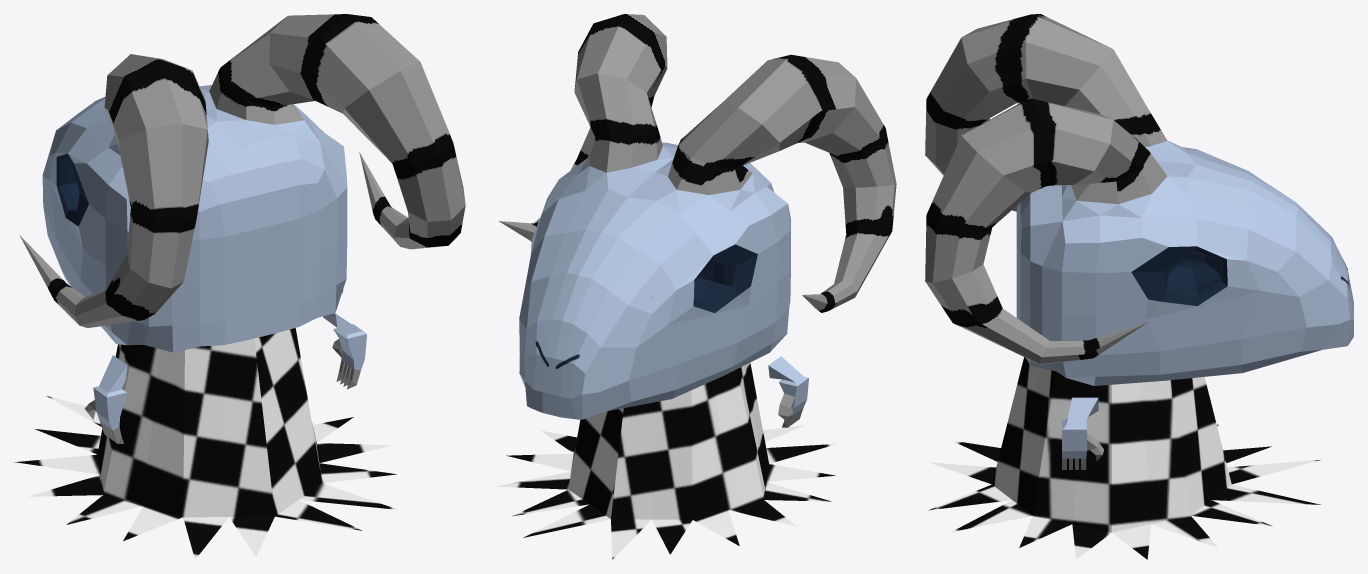
The model's file is player.obj.
The picture shows the model from 3 angles, left to right: view 1: azimuth 30°, elevation 25°; view 2: azimuth 150°, elevation 25°; view 3: azimuth 270°, elevation 25°; orthographic projection. The views are drawn at different scales.
Parts seen in each view (by area): view 1: Head, Body, Hands; view 2: Head, Body, Hands; view 3: Head, Body, Hands.
Boxes of the visible parts, box(x1,y1,x2,y2) form: Head: box(19, 14, 465, 352); Body: box(14, 328, 398, 559); Hands: box(85, 313, 366, 443); Head: box(499, 14, 896, 419); Body: box(495, 363, 837, 559); Hands: box(768, 356, 808, 427); Head: box(925, 14, 1353, 385); Body: box(929, 357, 1320, 559); Hands: box(1062, 397, 1103, 469).
Size of the model in its own units: 1.33 by 1.69 by 1.53.
Materials: 3 (3 with a texture image).
